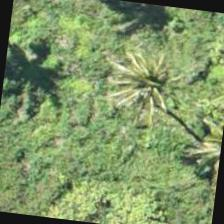Kelapa_Sawit: (94, 26, 194, 127)
